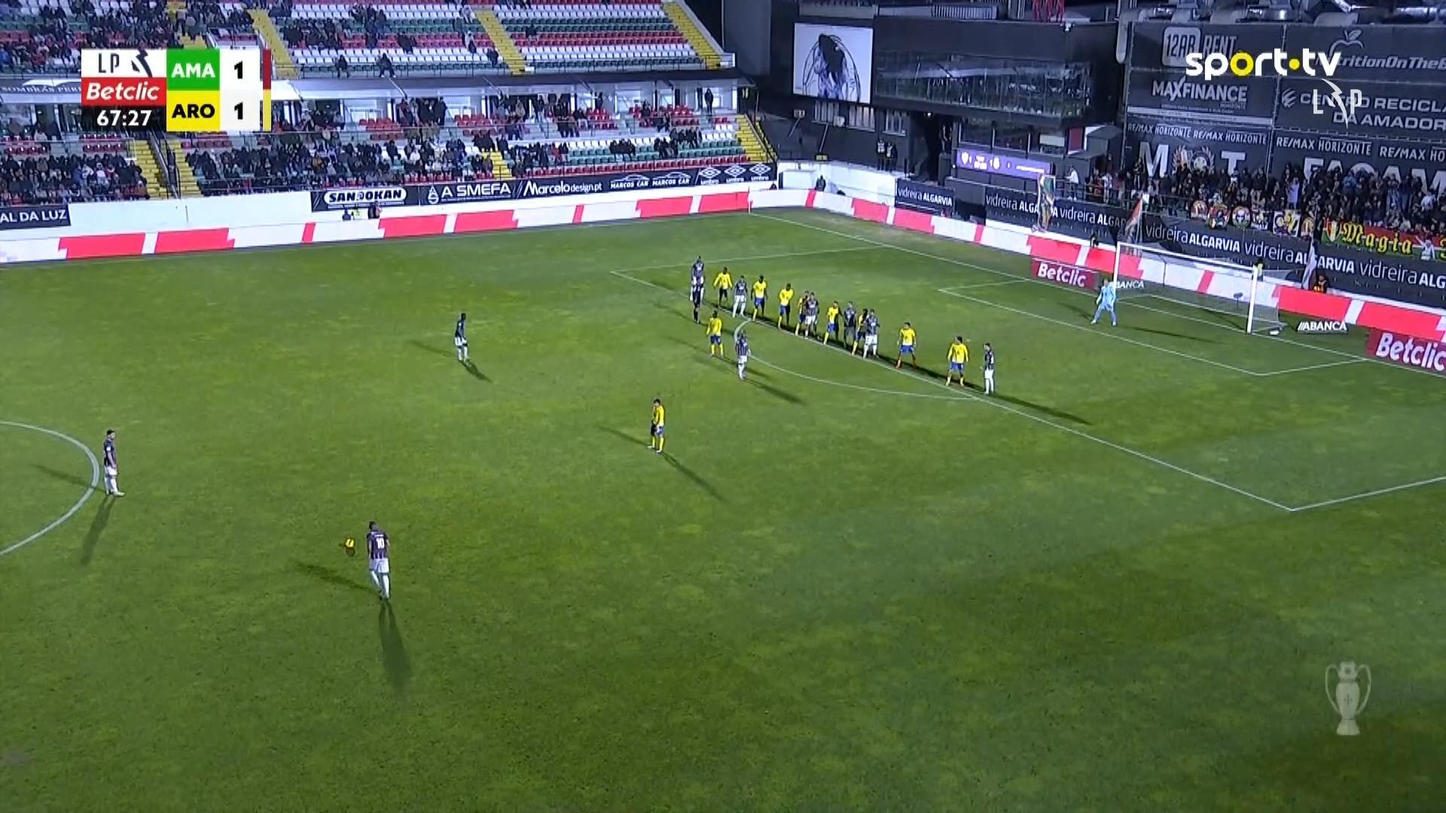ball: (344, 537, 354, 548), (1268, 327, 1280, 336)
goalkeeper: (1089, 277, 1118, 326)
player: (365, 519, 391, 600), (101, 428, 125, 497), (944, 335, 968, 387), (893, 321, 917, 369), (849, 308, 871, 357), (646, 397, 665, 452), (732, 327, 751, 380), (704, 309, 724, 358), (841, 300, 858, 349), (980, 342, 996, 394), (822, 300, 840, 346), (712, 265, 732, 306), (453, 312, 469, 363), (750, 273, 767, 321), (776, 282, 793, 329), (731, 274, 749, 318), (688, 256, 705, 302), (792, 290, 809, 336), (804, 293, 820, 340), (865, 309, 880, 358)
referee: (692, 278, 703, 324)
